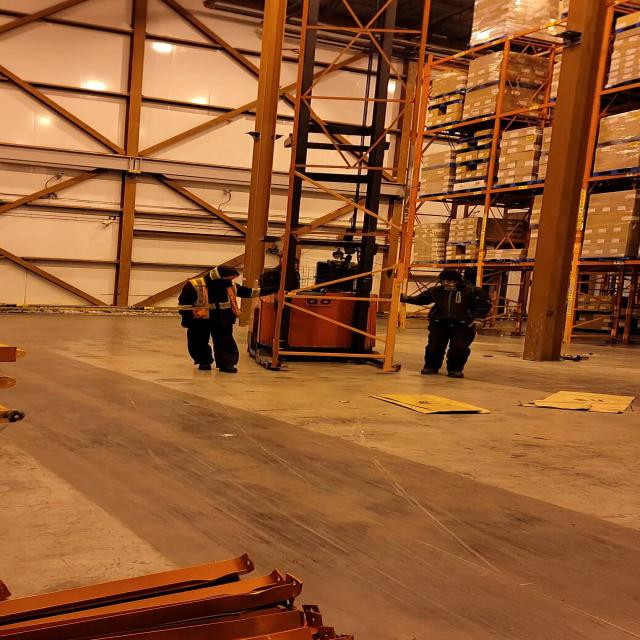forklift: (240, 128, 412, 378)
human: (175, 261, 281, 377), (402, 265, 496, 379), (260, 255, 320, 290)
objectofinterest: (268, 0, 430, 373), (510, 387, 640, 413), (366, 389, 490, 414)
